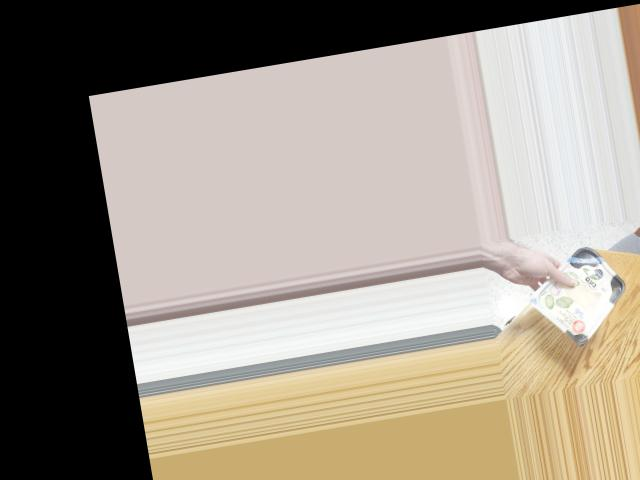cheese: (539, 248, 633, 339)
